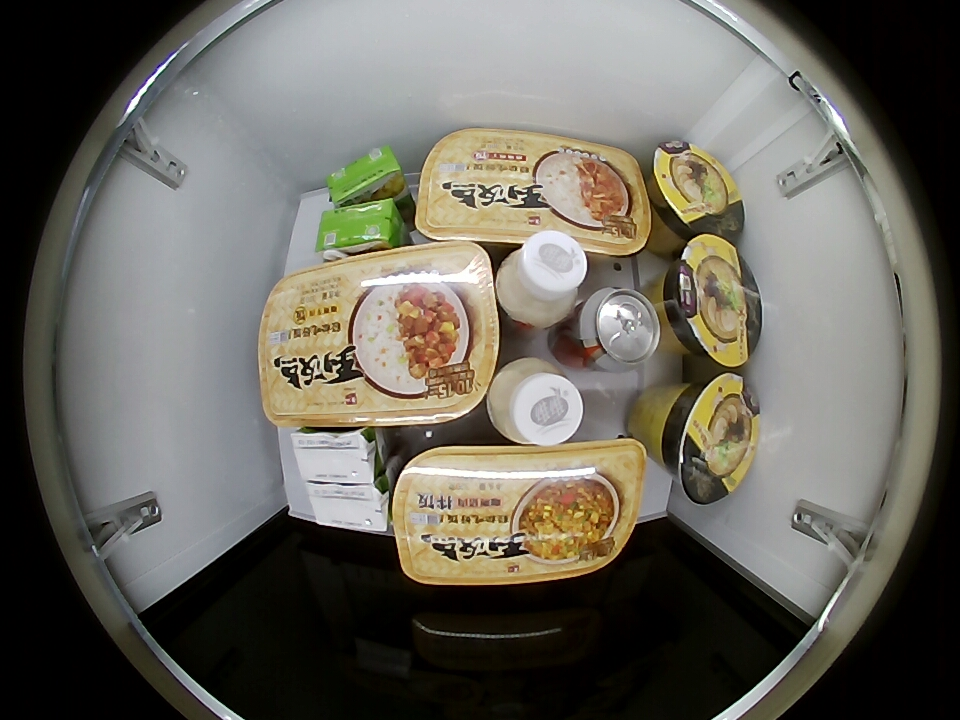daofandian2: (258, 242, 501, 430)
daofandian3: (391, 440, 646, 586)
daofandian4: (414, 129, 654, 255)
jianlibao: (577, 286, 662, 371)
mengniu: (289, 428, 387, 486), (306, 479, 393, 533)
mengniuzaocan: (316, 199, 405, 254), (326, 148, 406, 206)
tangdaren2: (656, 374, 761, 504), (661, 235, 763, 368), (649, 140, 745, 242)
weiweidounai: (495, 232, 589, 328), (486, 357, 585, 446)
